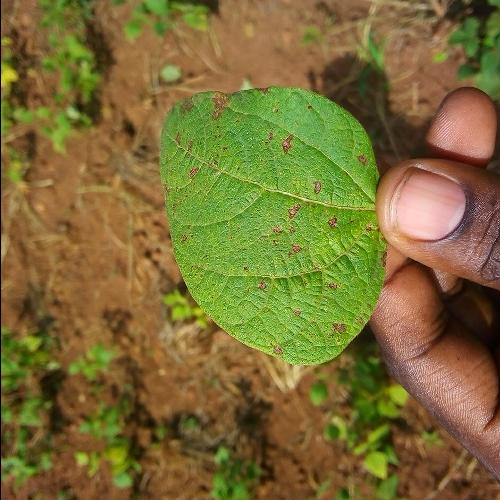hawar: (169, 86, 380, 357), (246, 263, 276, 304)
